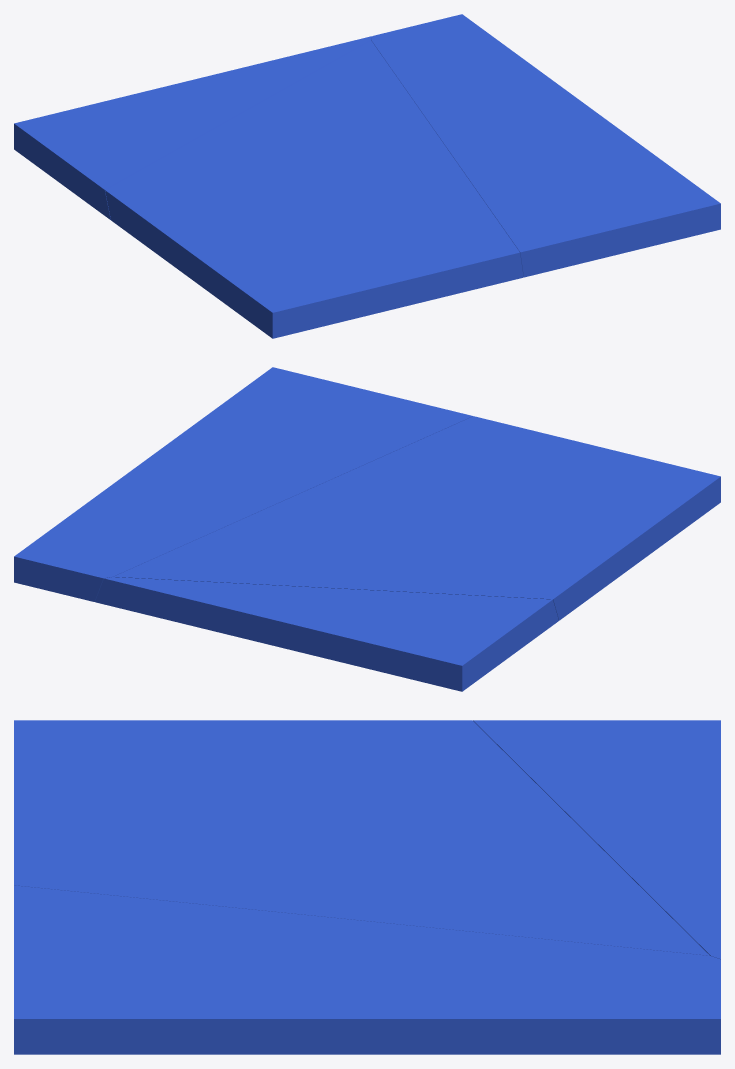
File: Плита сломанная.fbx
3 views of the same model, one above another, from view 1: azimuth 30°, elevation 25°; view 2: azimuth 150°, elevation 25°; view 3: azimuth 270°, elevation 25° (orthographic). The views are drawn at different scales.
Parts seen in each view (by area): view 1: Cube_cell.002, Cube_cell, Cube_cell.001; view 2: Cube_cell.002, Cube_cell, Cube_cell.001; view 3: Cube_cell.002, Cube_cell, Cube_cell.001.
Part boxes in pixels (x1,y1,x2,y2): Cube_cell.002: (105, 40, 523, 338); Cube_cell: (371, 14, 720, 277); Cube_cell.001: (14, 36, 372, 219); Cube_cell.002: (113, 416, 720, 620); Cube_cell: (14, 367, 472, 601); Cube_cell.001: (95, 577, 558, 691); Cube_cell.002: (14, 720, 709, 955); Cube_cell: (14, 885, 720, 1054); Cube_cell.001: (473, 720, 720, 959).
Size of the model in its own units: 285 by 15.79 by 285.
